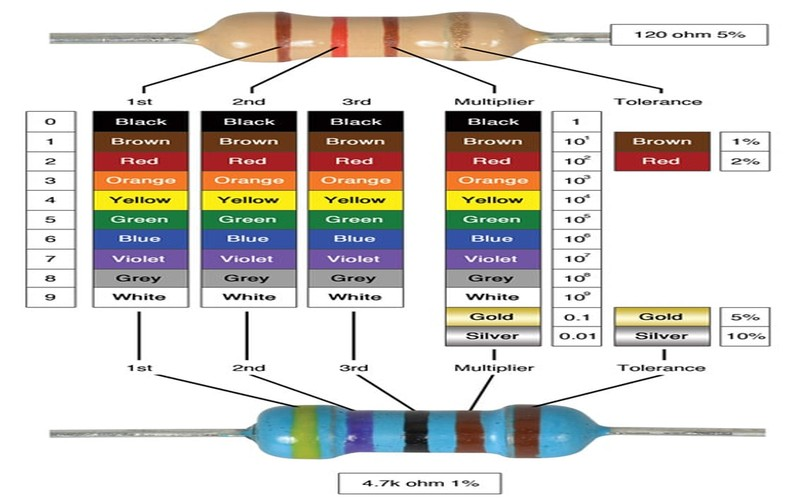Resistor: (218, 384, 616, 458), (179, 5, 564, 80)
